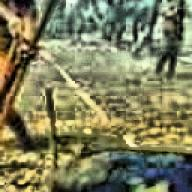boar: (43, 141, 192, 192)
